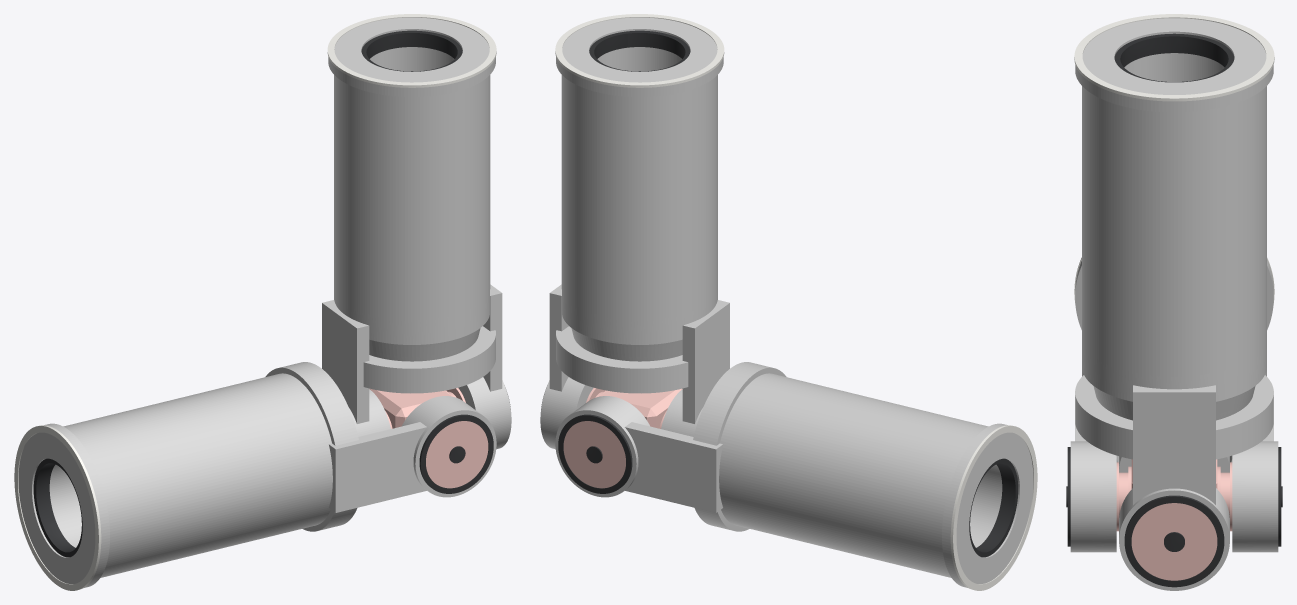
The model's file is universal_joint__0005.glb.
The picture shows the model from 3 angles, left to right: view 1: azimuth 30°, elevation 25°; view 2: azimuth 150°, elevation 25°; view 3: azimuth 270°, elevation 25°; orthographic projection. The views are drawn at different scales.
Parts seen in each view (by area): view 1: shaft_yoke_b::shaft_yoke, shaft_yoke_a::shaft_yoke, shaft_yoke_a::cap_neg, shaft_yoke_a::mouth_edge, shaft_yoke_b::mouth_edge, shaft_yoke_a::bore_liner, shaft_yoke_b::bore_liner, shaft_yoke_a::retaining_ring_neg, spider::spider_center; view 2: shaft_yoke_b::shaft_yoke, shaft_yoke_a::shaft_yoke, shaft_yoke_a::cap_pos, shaft_yoke_a::mouth_edge, shaft_yoke_b::mouth_edge, shaft_yoke_a::bore_liner, shaft_yoke_b::bore_liner, shaft_yoke_a::retaining_ring_pos, spider::spider_center; view 3: shaft_yoke_b::shaft_yoke, shaft_yoke_a::shaft_yoke, shaft_yoke_b::cap_pos, shaft_yoke_b::mouth_edge, shaft_yoke_b::bore_liner, shaft_yoke_b::retaining_ring_pos, spider::journal_y, shaft_yoke_a::retaining_ring_neg, shaft_yoke_a::retaining_ring_pos, shaft_yoke_b::cap_dimple_pos.
Part boxes in pixels (x1,y1,x2,y2): shaft_yoke_b::shaft_yoke: [322, 17, 511, 449]; shaft_yoke_a::shaft_yoke: [18, 362, 496, 587]; shaft_yoke_a::cap_neg: [426, 421, 488, 488]; shaft_yoke_a::mouth_edge: [14, 425, 101, 590]; shaft_yoke_b::mouth_edge: [327, 14, 496, 87]; shaft_yoke_a::bore_liner: [33, 458, 82, 557]; shaft_yoke_b::bore_liner: [361, 30, 462, 71]; shaft_yoke_a::retaining_ring_neg: [419, 414, 493, 493]; spider::spider_center: [370, 389, 451, 428]; shaft_yoke_b::shaft_yoke: [540, 17, 729, 449]; shaft_yoke_a::shaft_yoke: [555, 362, 1033, 587]; shaft_yoke_a::cap_pos: [563, 421, 625, 488]; shaft_yoke_a::mouth_edge: [950, 425, 1037, 590]; shaft_yoke_b::mouth_edge: [555, 14, 724, 87]; shaft_yoke_a::bore_liner: [969, 458, 1018, 557]; shaft_yoke_b::bore_liner: [589, 30, 690, 71]; shaft_yoke_a::retaining_ring_pos: [558, 414, 632, 493]; spider::spider_center: [600, 389, 681, 428]; shaft_yoke_b::shaft_yoke: [1075, 18, 1273, 590]; shaft_yoke_a::shaft_yoke: [1070, 260, 1278, 552]; shaft_yoke_b::cap_pos: [1131, 503, 1217, 580]; shaft_yoke_b::mouth_edge: [1074, 14, 1274, 101]; shaft_yoke_b::bore_liner: [1114, 33, 1234, 82]; shaft_yoke_b::retaining_ring_pos: [1124, 495, 1224, 587]; spider::journal_y: [1119, 466, 1229, 517]; shaft_yoke_a::retaining_ring_neg: [1067, 447, 1070, 546]; shaft_yoke_a::retaining_ring_pos: [1278, 447, 1281, 546]; shaft_yoke_b::cap_dimple_pos: [1164, 532, 1184, 551].
Bounding box in the file's own units: 0.1286 × 0.1268 × 0.0468.
Materials: 4 (3 with a texture image).
